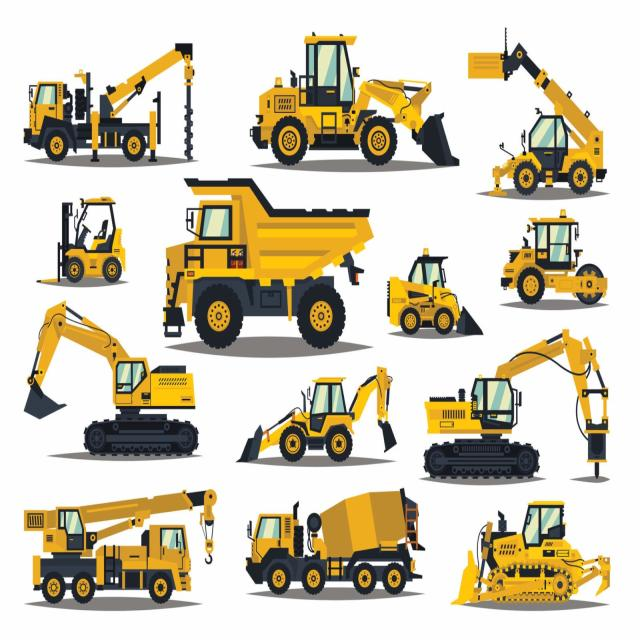excavator: (9, 300, 213, 471)
